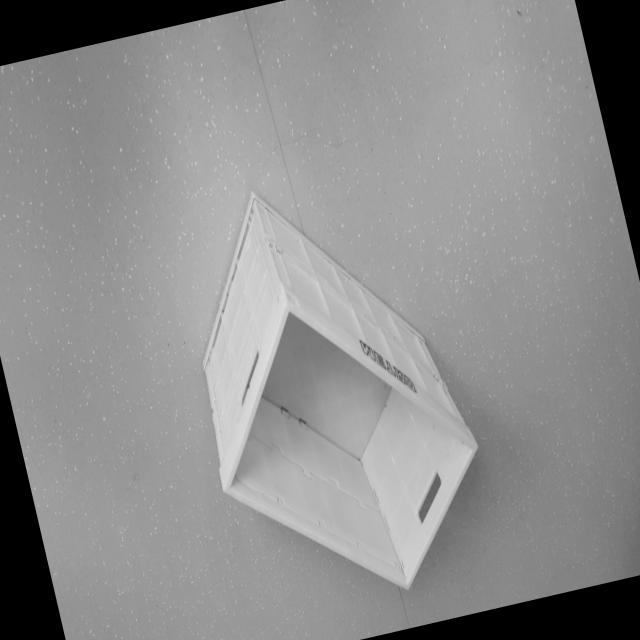box: (147, 132, 514, 640)
